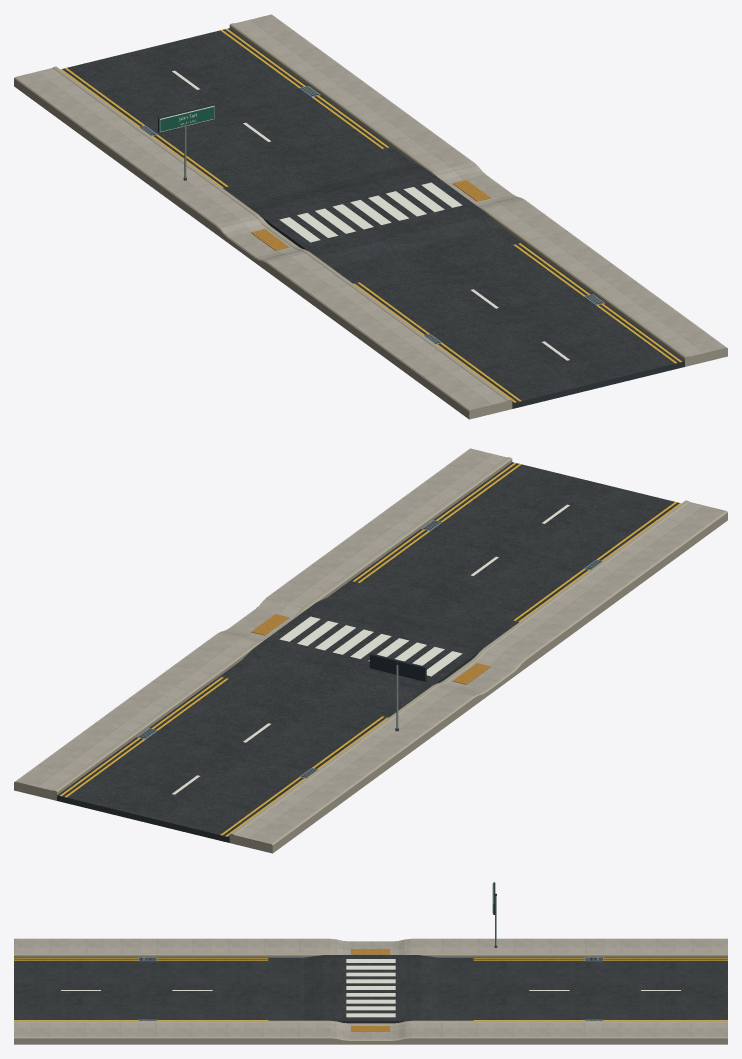
3 views of the same model, one above another, from view 1: azimuth 30°, elevation 25°; view 2: azimuth 150°, elevation 25°; view 3: azimuth 270°, elevation 25° (orthographic). The views are drawn at different scales.
Parts seen in each view (by area): view 1: Road Deck, Kerbs and Footways, Raised Table, Table Ramps, Road Markings, Zebra Markings, Local Street Signs, Tactile Paving; view 2: Road Deck, Kerbs and Footways, Raised Table, Table Ramps, Road Markings, Zebra Markings, Local Street Signs, Tactile Paving; view 3: Road Deck, Kerbs and Footways, Raised Table, Table Ramps, Zebra Markings, Road Markings, Tactile Paving.
Boxes of the visible parts, box(x1,y1,x2,y2) form: Road Deck: box(62, 28, 684, 408); Kerbs and Footways: box(14, 14, 727, 419); Raised Table: box(254, 168, 487, 256); Table Ramps: box(245, 163, 499, 266); Road Markings: box(60, 28, 681, 402); Zebra Markings: box(279, 182, 462, 242); Local Street Signs: box(158, 104, 214, 180); Tactile Paving: box(251, 180, 490, 250); Road Deck: box(57, 462, 679, 842); Kerbs and Footways: box(14, 448, 727, 853); Raised Table: box(254, 602, 487, 690); Table Ramps: box(242, 597, 496, 700); Road Markings: box(60, 462, 681, 836); Zebra Markings: box(279, 616, 462, 676); Local Street Signs: box(369, 653, 426, 731); Tactile Paving: box(251, 614, 490, 684); Road Deck: box(14, 957, 727, 1020); Kerbs and Footways: box(14, 938, 727, 1044); Raised Table: box(322, 955, 419, 1023); Table Ramps: box(304, 955, 437, 1020); Zebra Markings: box(346, 959, 395, 1017); Road Markings: box(14, 958, 727, 1020); Tactile Paving: box(351, 949, 390, 1031).
Size of the model in its own units: 10.69 by 3.04 by 32.
Materials: 12 (2 with a texture image).
